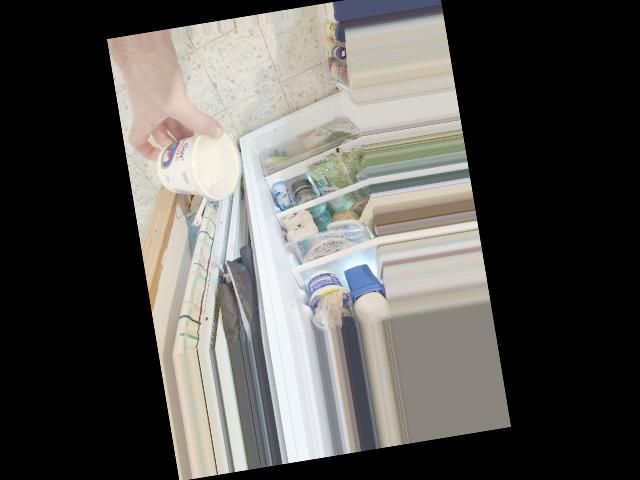cotage: (146, 119, 243, 208)
